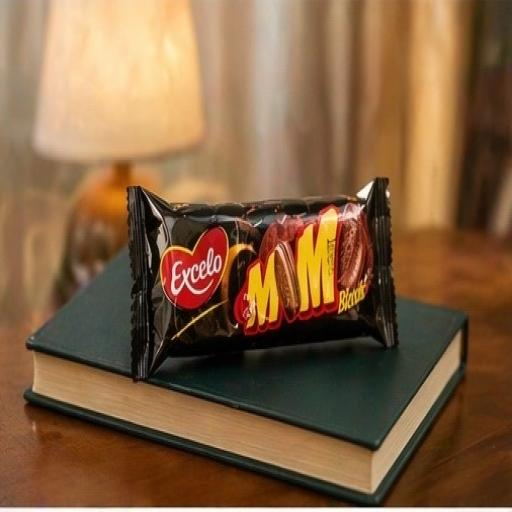MOMO: (102, 134, 441, 424)
